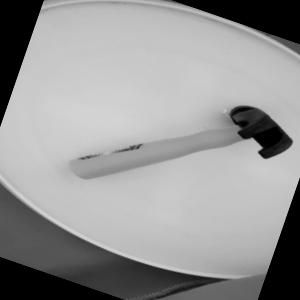martelo: (64, 54, 299, 239)
